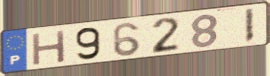2: (150, 17, 181, 55)
6: (111, 21, 143, 58)
8: (190, 13, 220, 49)
9: (75, 26, 102, 61)
H: (31, 28, 68, 67)
I: (243, 7, 256, 44)
